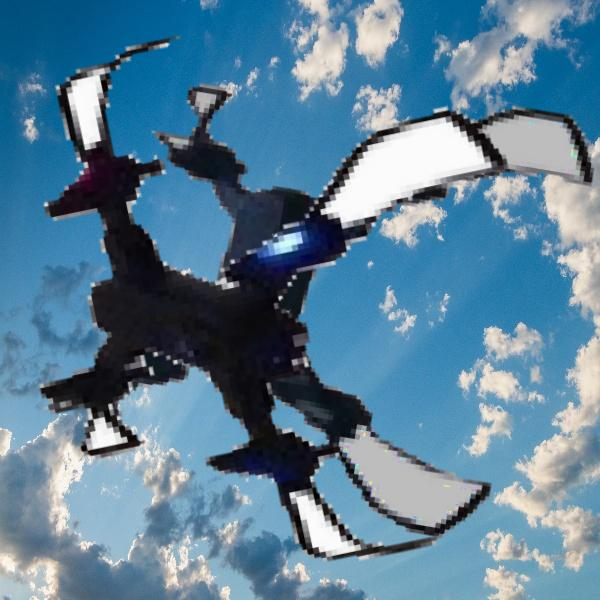drone: (3, 5, 593, 595), (84, 38, 579, 533)
